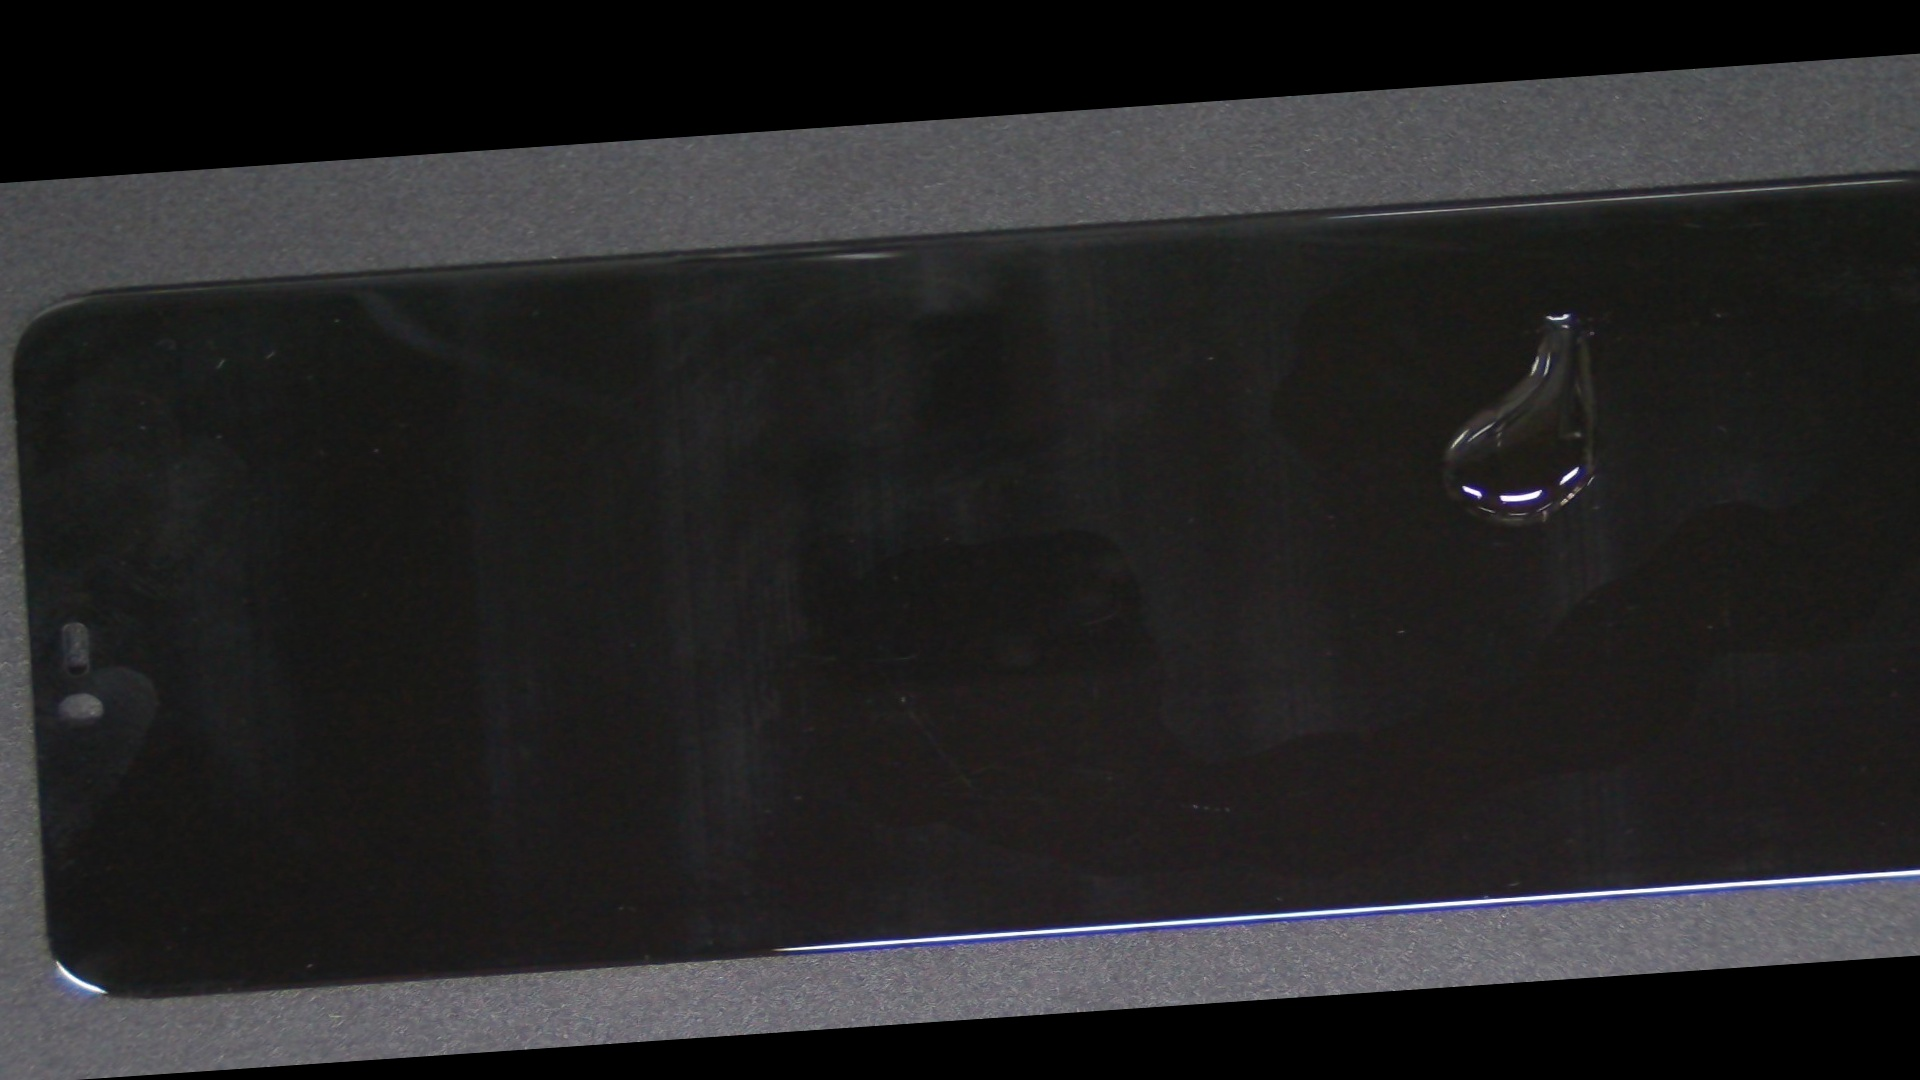oil: (744, 158, 1920, 483)
